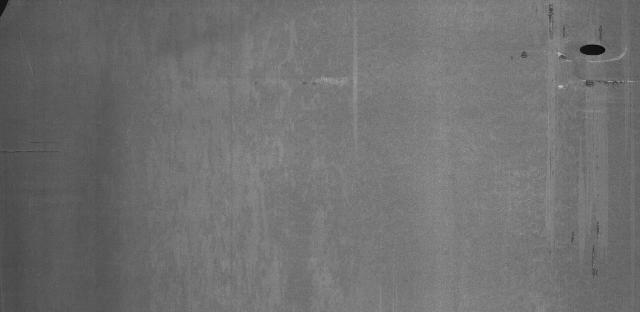punching_hole: (575, 38, 611, 58)
